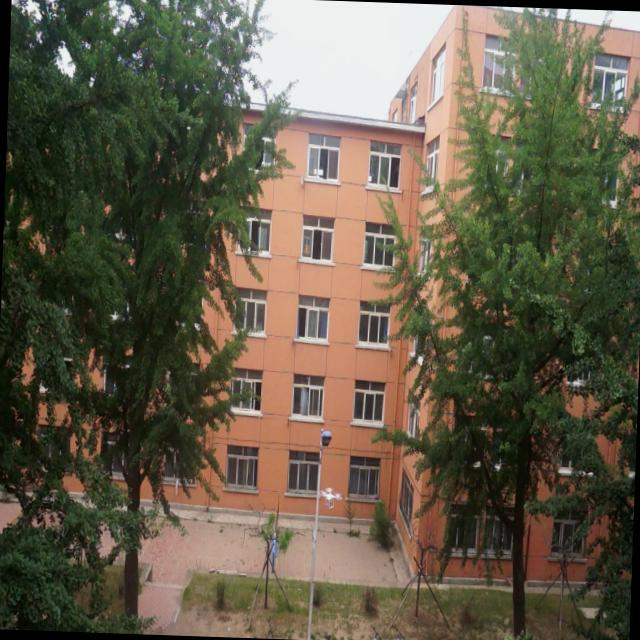drone: (317, 484, 343, 511)
